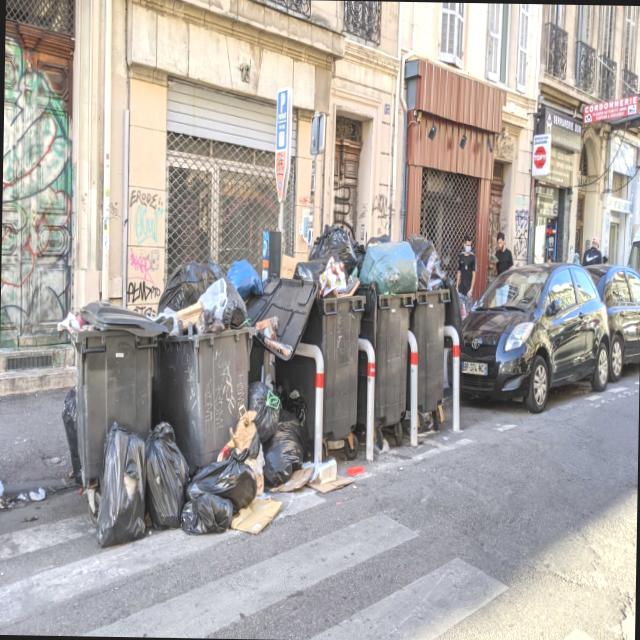garbage: (72, 154, 450, 590)
